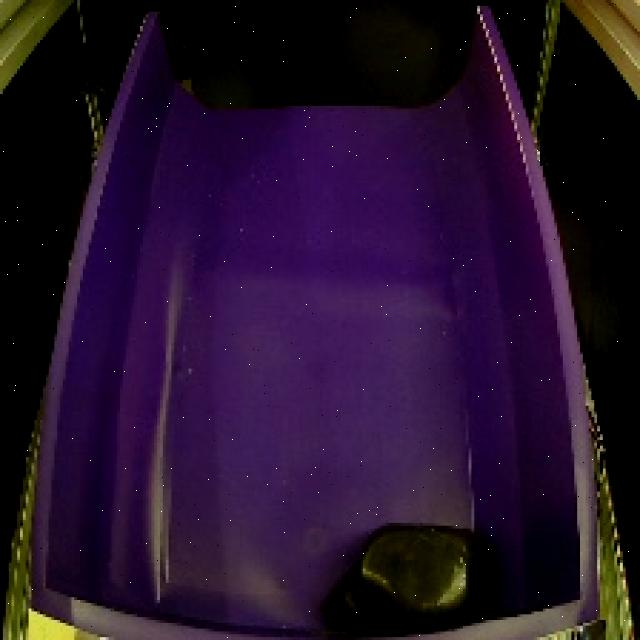cobbles: (308, 521, 504, 636)
